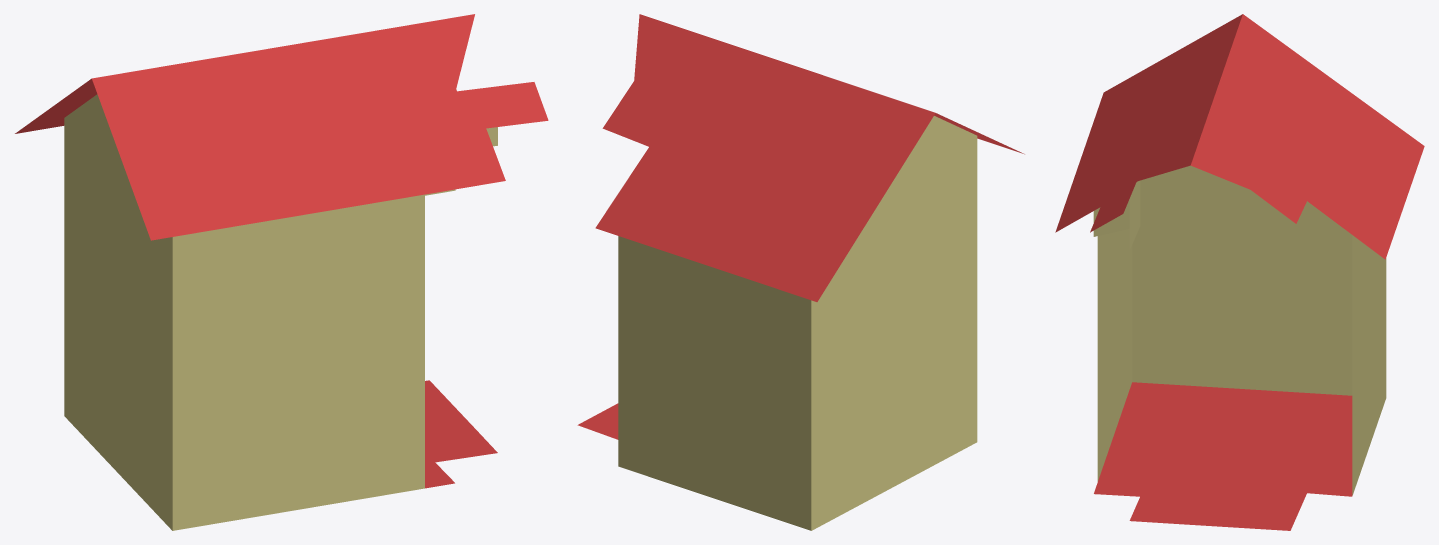
The picture shows the model from 3 angles, left to right: view 1: azimuth 30°, elevation 25°; view 2: azimuth 150°, elevation 25°; view 3: azimuth 270°, elevation 25°; orthographic projection. The views are drawn at different scales.
Bounding box in the file's own units: 11.84 × 10.93 × 11.77.
